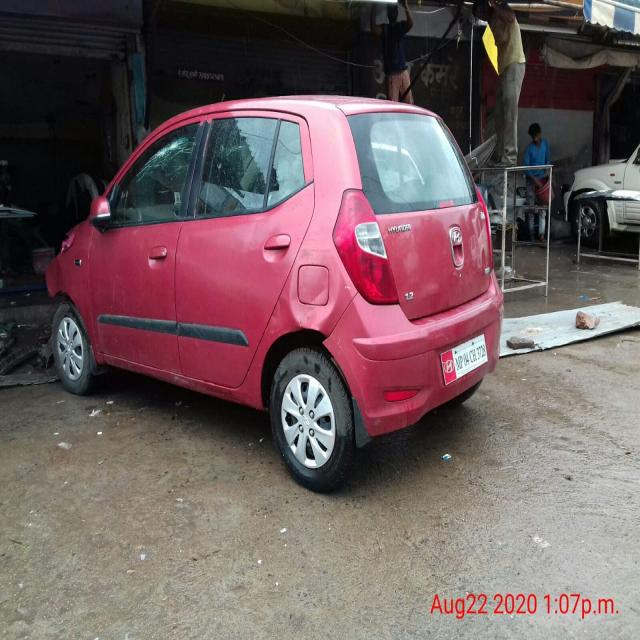damage: (282, 253, 352, 334)
